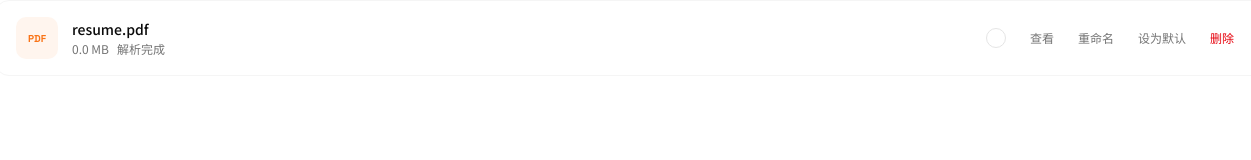
it: ResumeCard › closes rename editing when the mutation rejects
Click the button "重命名" at (1096, 38), box [1068,24,1124,52]
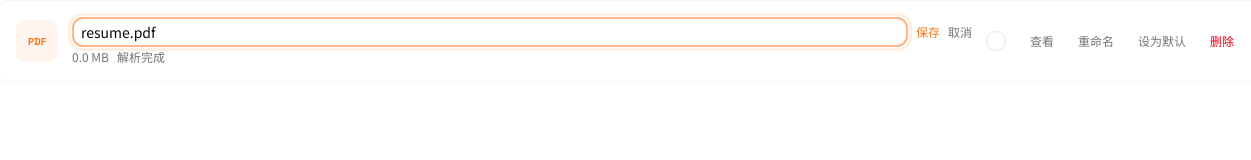
Replace the text in the field named "简历名称" with "renamed.pdf" at (490, 32), box [72,17,908,47]
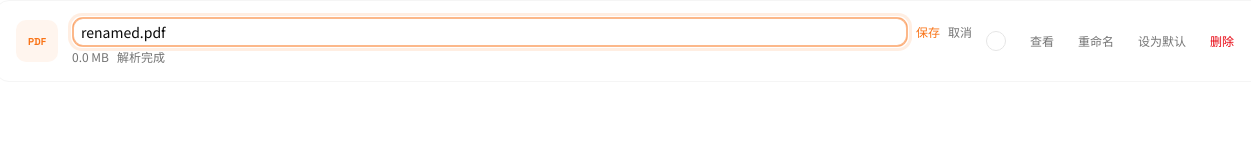
Click the button "保存" at (928, 32), box [916,17,940,47]
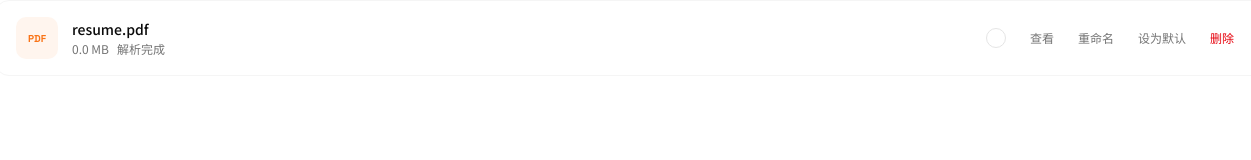
Check: the field labelled "简历名称" is gone
